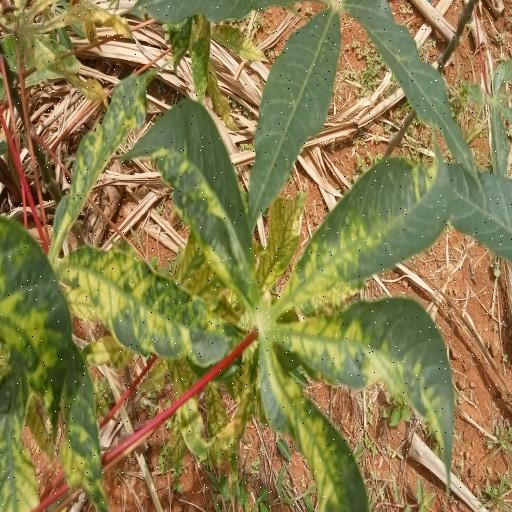Cassava_Mosaic: (44, 98, 462, 512)
